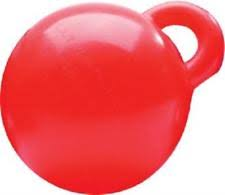buoy: (1, 1, 193, 193)
